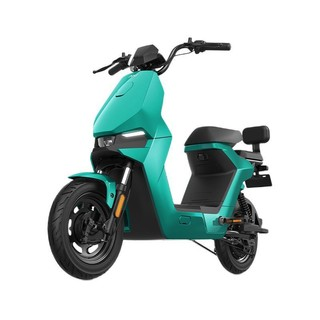MNV: (49, 35, 274, 279)
